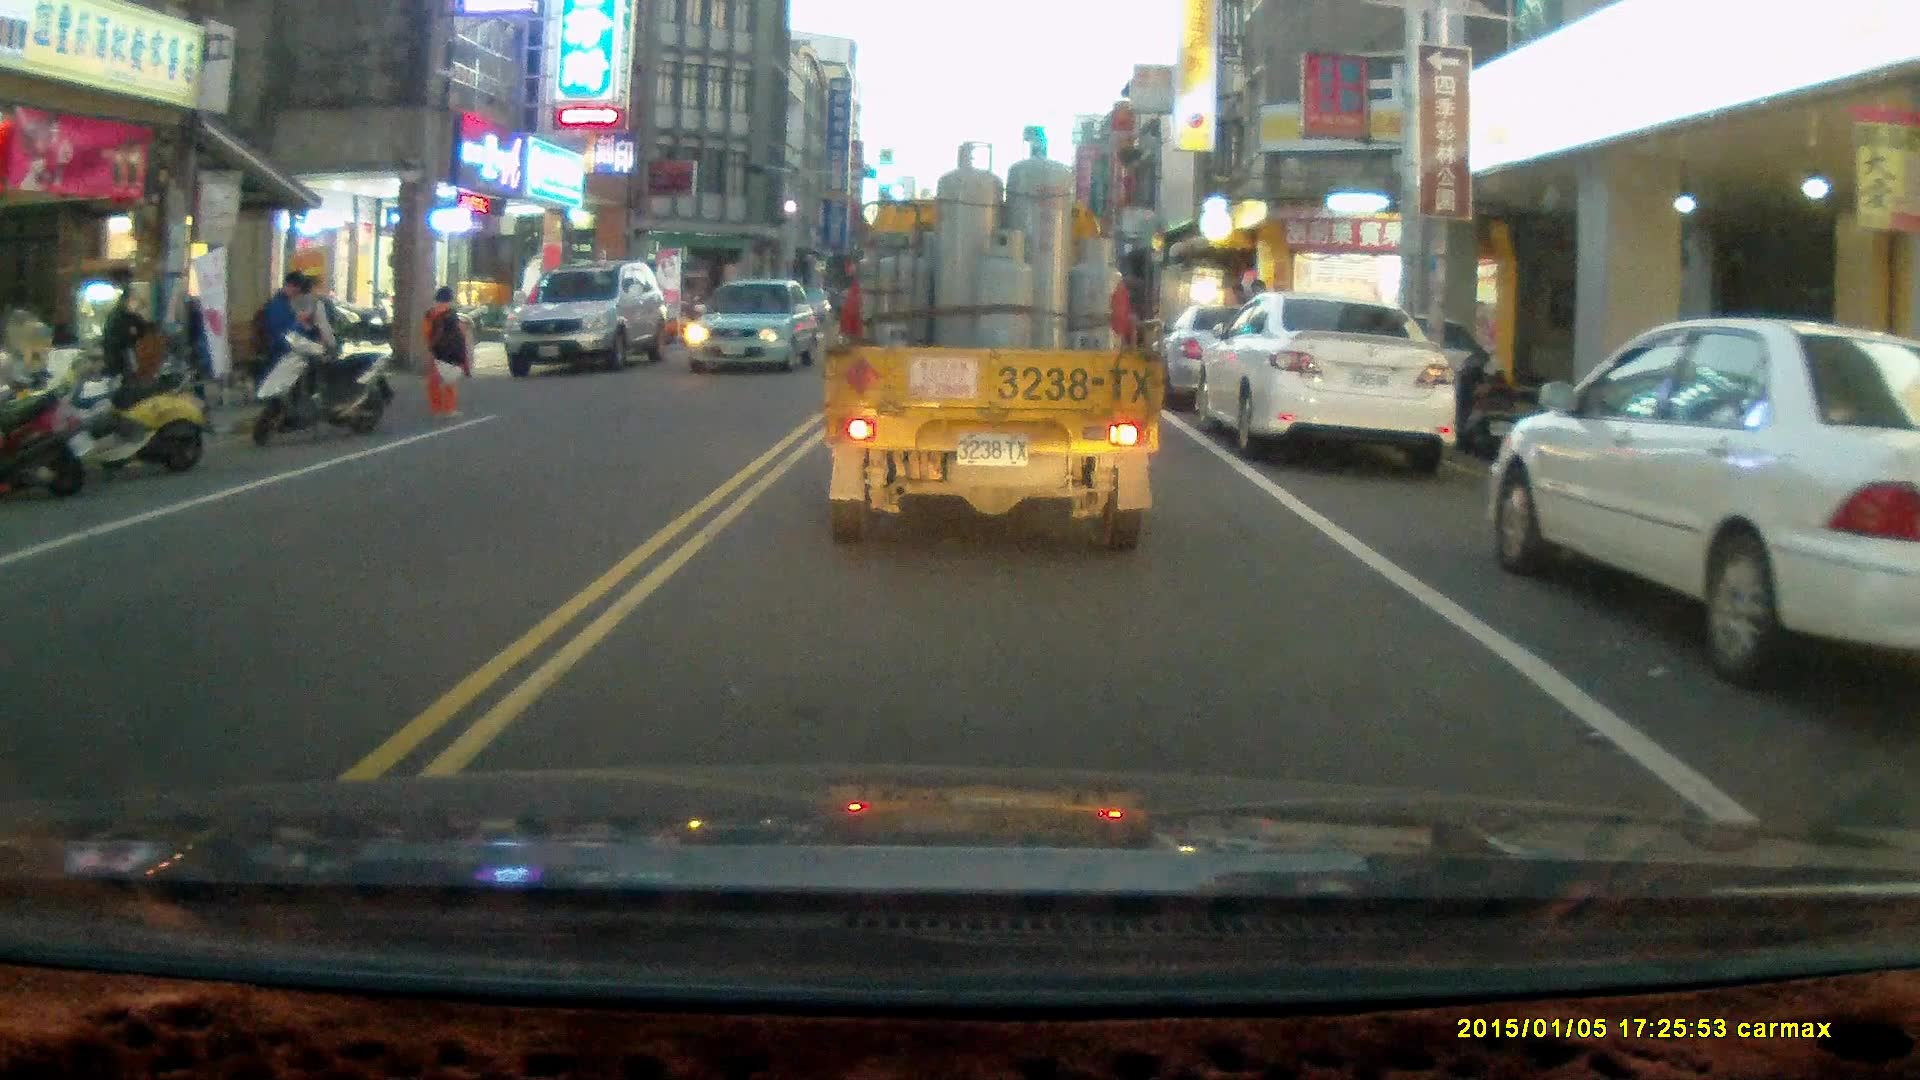pedestrian: (237, 272, 307, 436), (416, 284, 476, 416), (95, 284, 141, 439)
vehicle: (1486, 317, 1920, 681), (820, 136, 1168, 556), (1193, 293, 1456, 466), (1148, 300, 1346, 414), (503, 262, 668, 381), (687, 279, 819, 377)
